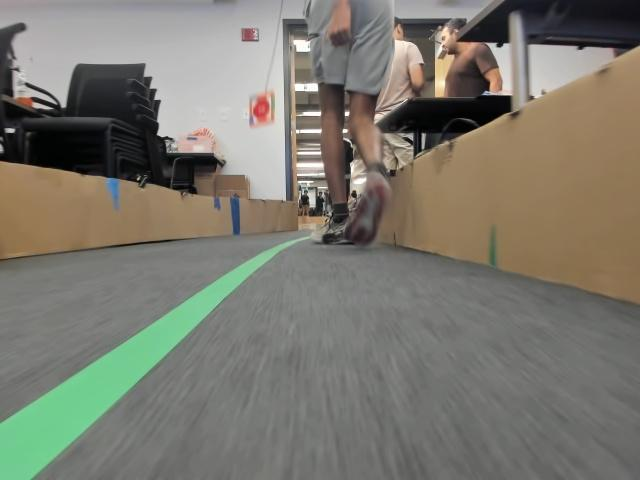Stop: (253, 101, 269, 116)
